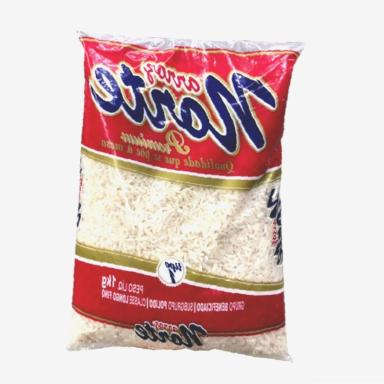rice package: (69, 33, 303, 359)
